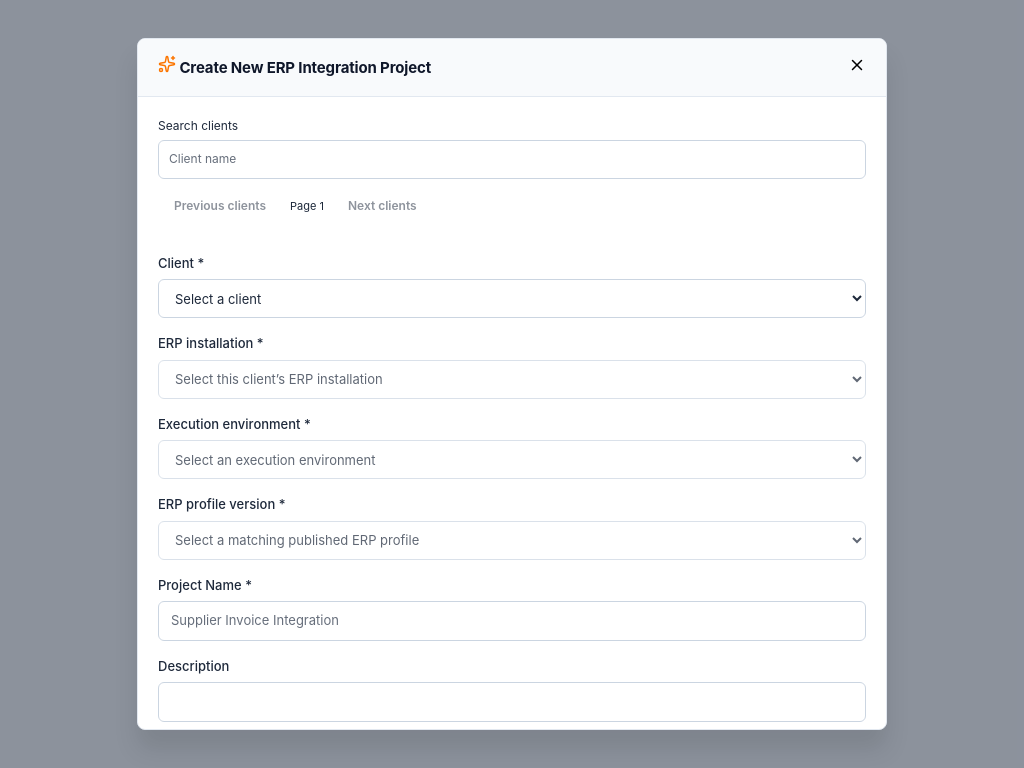
Scenario: integration request ownership › clears downstream selections when the selected client changes
Select "Alpha Industries" in the dropdown labelled "Client *" at (512, 299), box top-left (158, 279), bottom-right (866, 318)
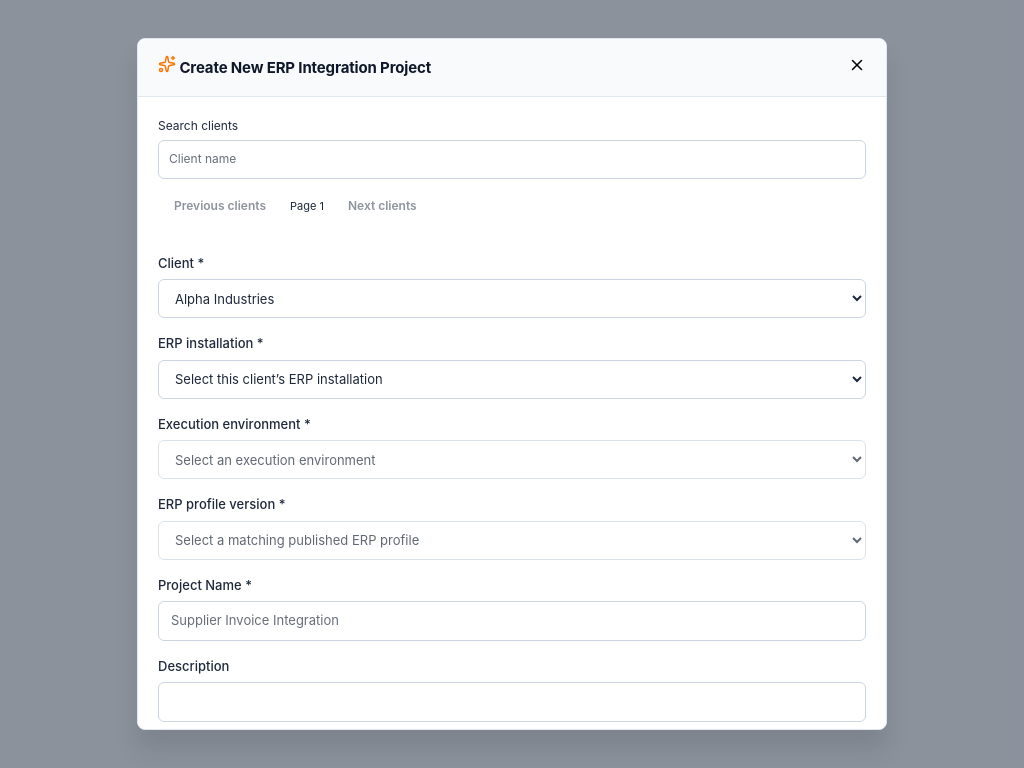
Select "Alpha Industries finance" in the dropdown labelled "ERP installation *" at (512, 379), box top-left (158, 360), bottom-right (866, 399)
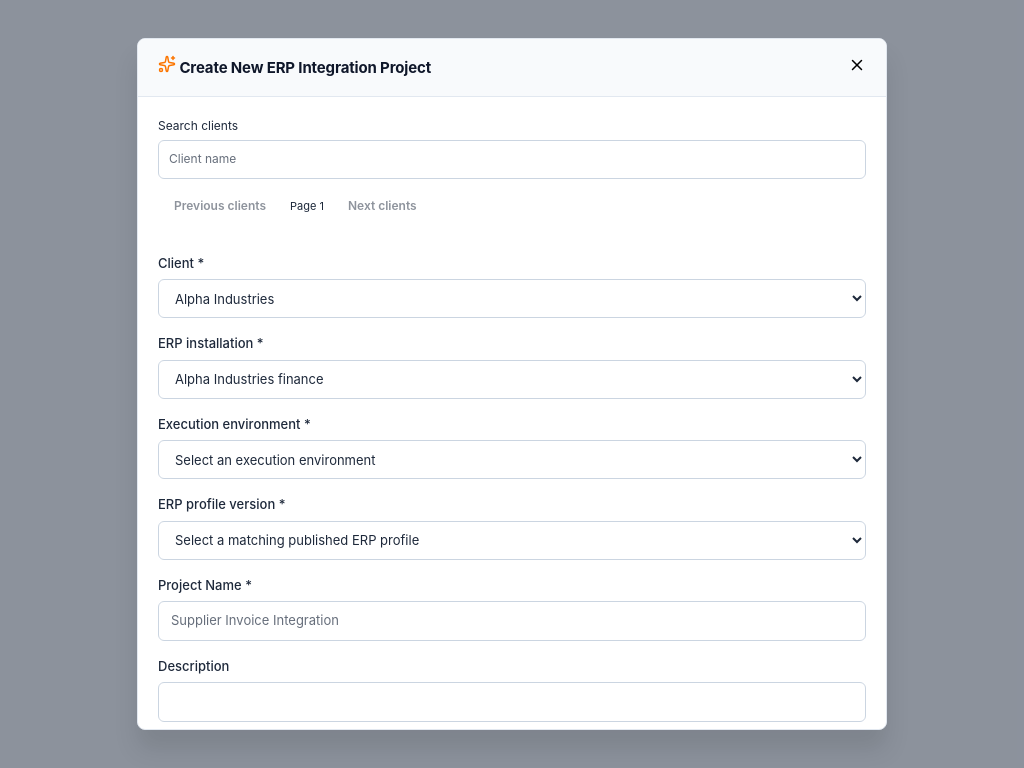
Select "Alpha Industries finance sandbox · SANDBOX" in the dropdown labelled "Execution environment *" at (512, 460), box top-left (158, 440), bottom-right (866, 479)
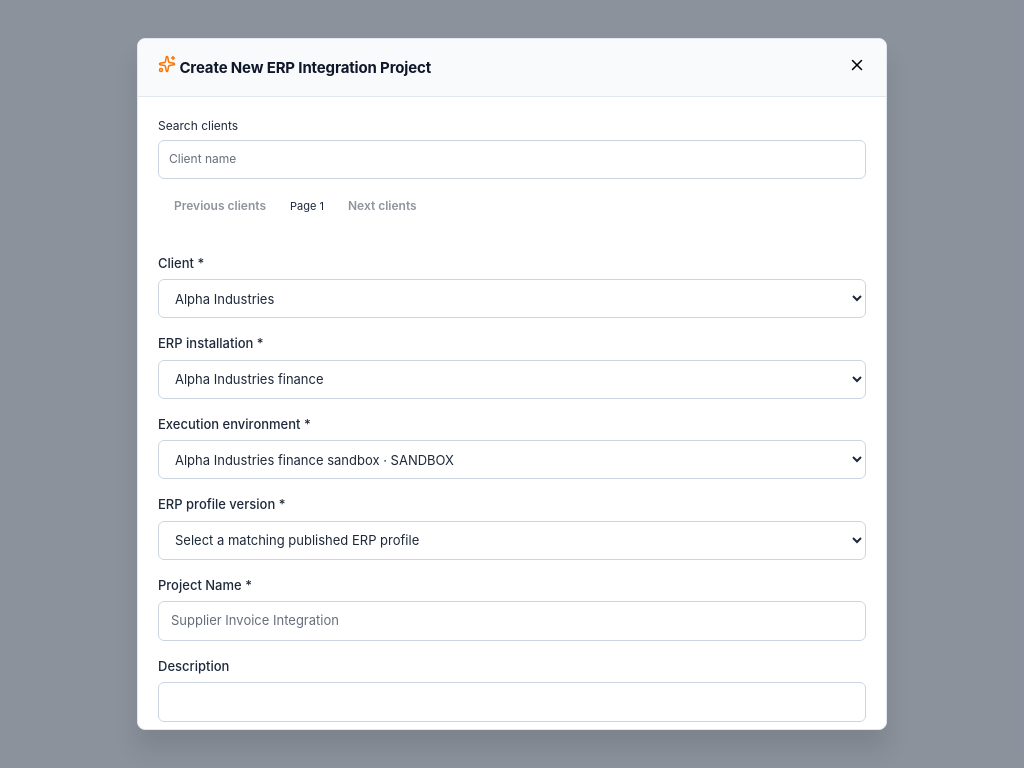
Select "ERP 0 · Profile v3" in the dropdown labelled "ERP profile version *" at (512, 540), box top-left (158, 521), bottom-right (866, 560)
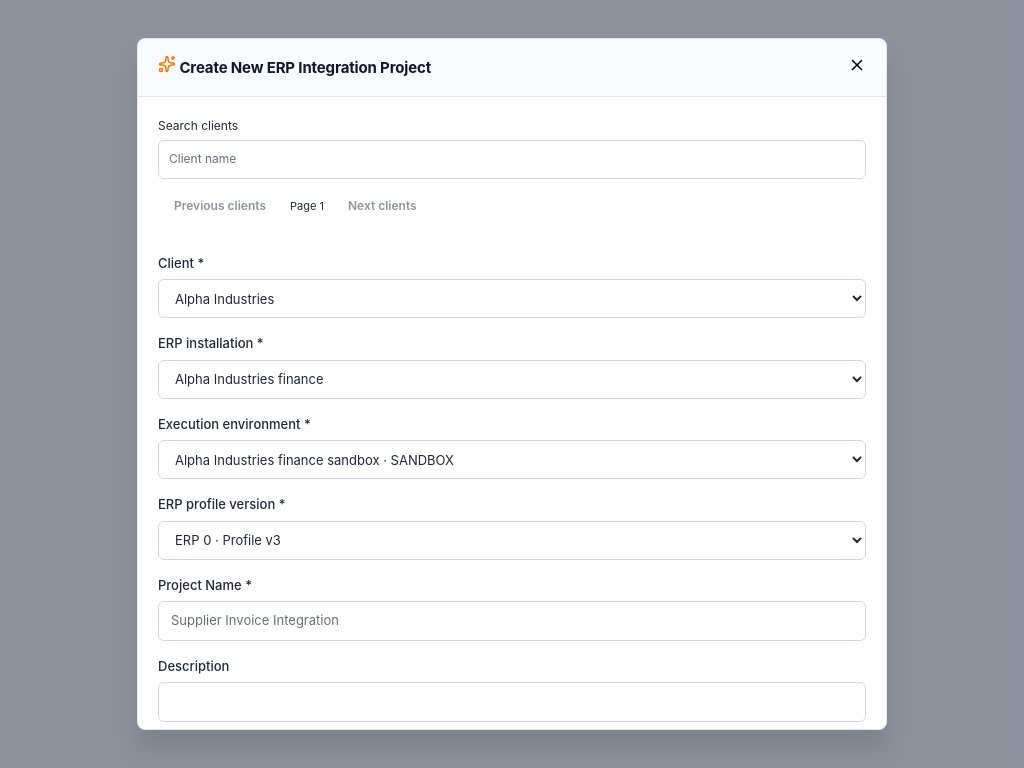
Type "Supplier invoice export" into the field labelled "Project Name *".
click(512, 621); type("Supplier invoice export")  # box top-left (158, 601), bottom-right (866, 641)
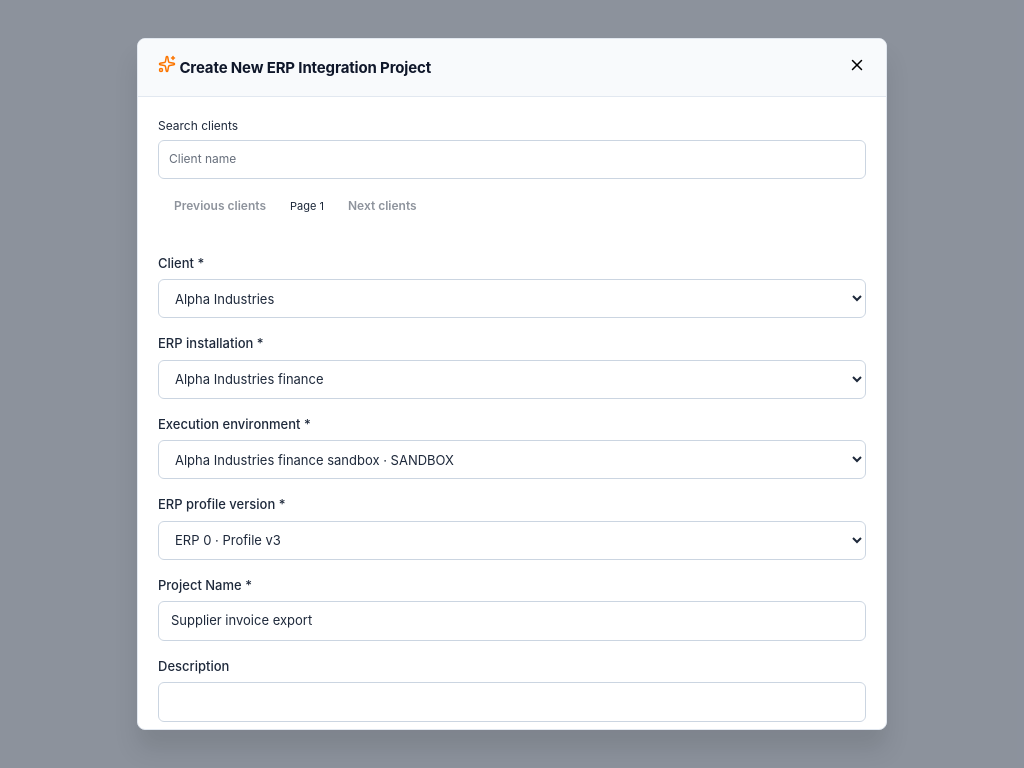
Select "Beta Industries" in the dropdown labelled "Client *" at (512, 299), box top-left (158, 279), bottom-right (866, 318)
(page scrolled)
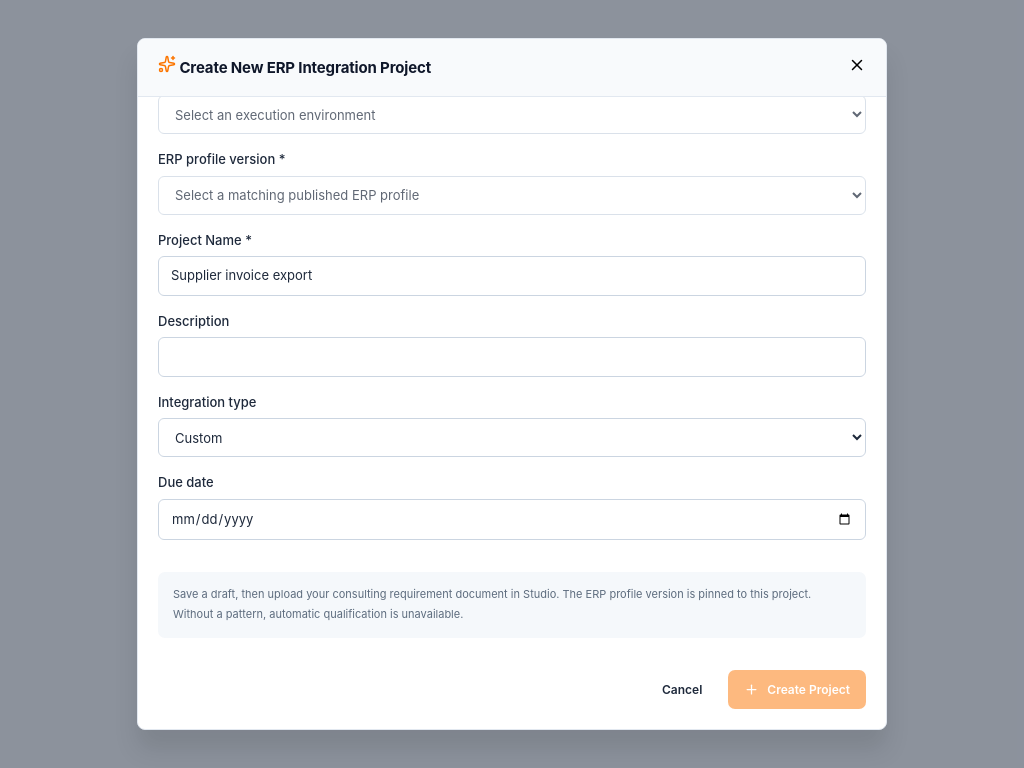
expect the option "Alpha Industries finance" is not shown: met
expect the button "Create Project" is disabled: met, box top-left (728, 670), bottom-right (866, 709)
